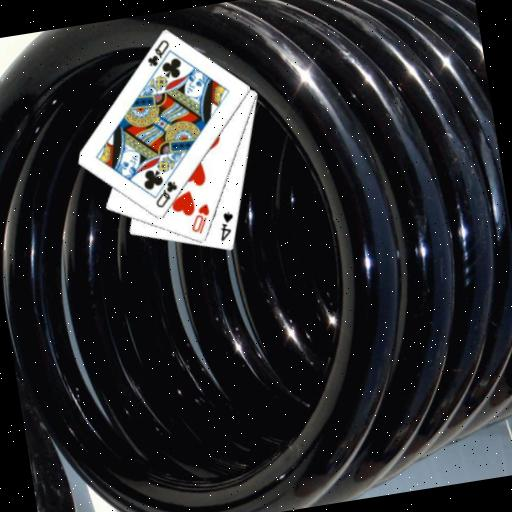10H: (185, 200, 215, 237)
4S: (214, 208, 239, 243)
QC: (148, 177, 181, 211), (141, 36, 174, 69)
